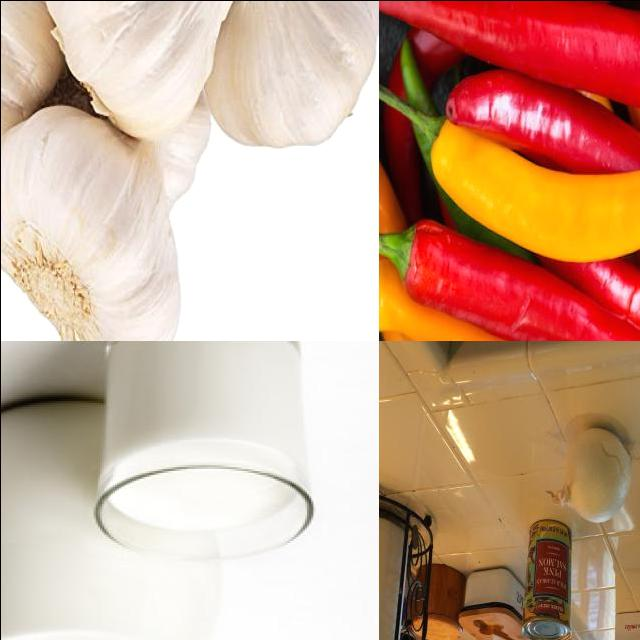garlic: (1, 105, 181, 341), (47, 1, 322, 140), (197, 1, 379, 153)
onion: (556, 425, 630, 528)
